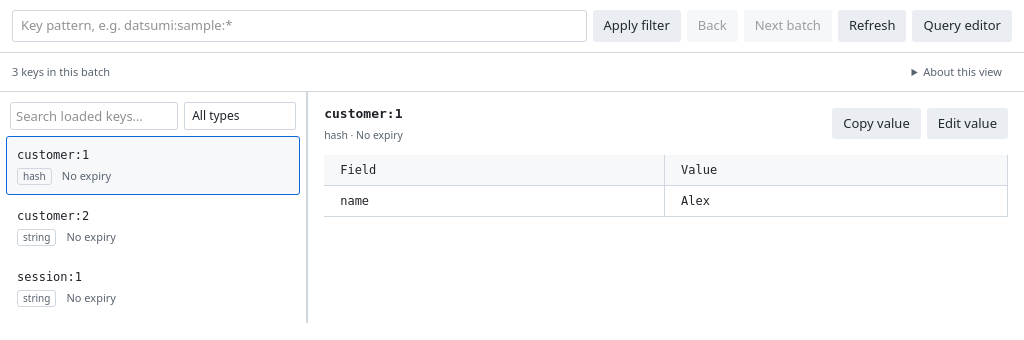
Test case: database browsers › combines Redis type and name filters without querying the server or changing raw copy values
Later steps or results of the test are not shown.
Click the dropdown named "Key type" at (240, 116), box [184,102,296,130]
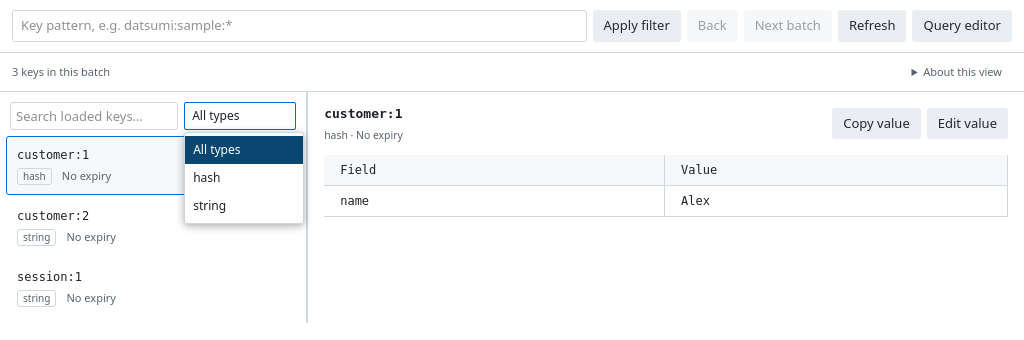
Click the option "string" at (210, 206), box [193,197,226,214]
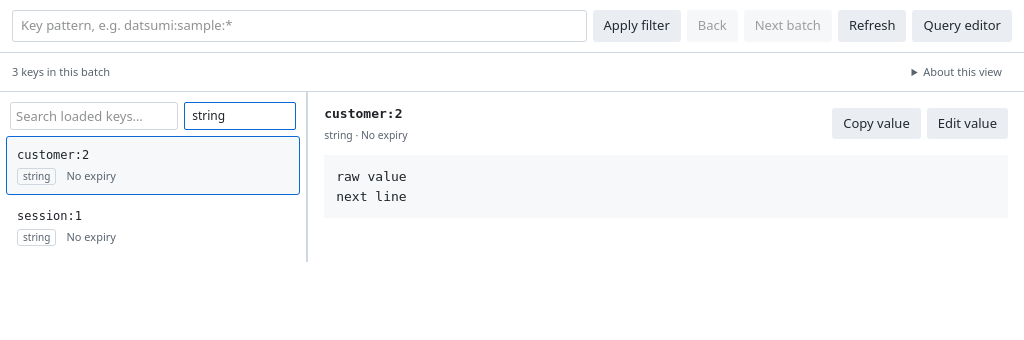
Type "CUSTOMER" into the field labelled "Search loaded keys" at (94, 116), box [10,102,178,130]
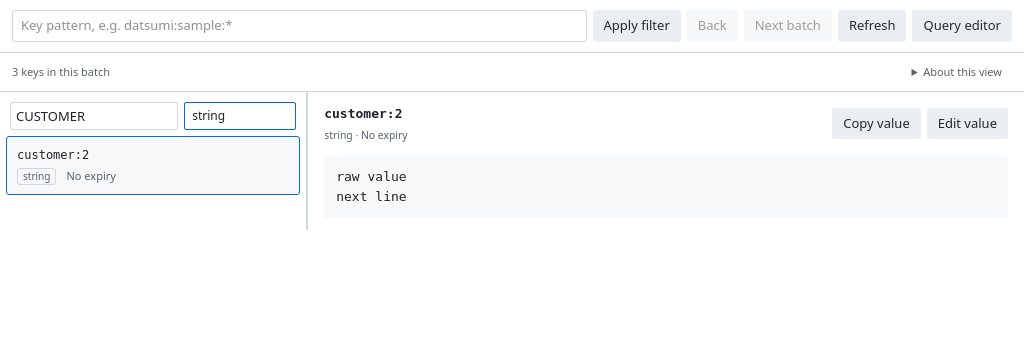
Expected: the button "customer:1" is not shown
Expected: the button "session:1" is gone
